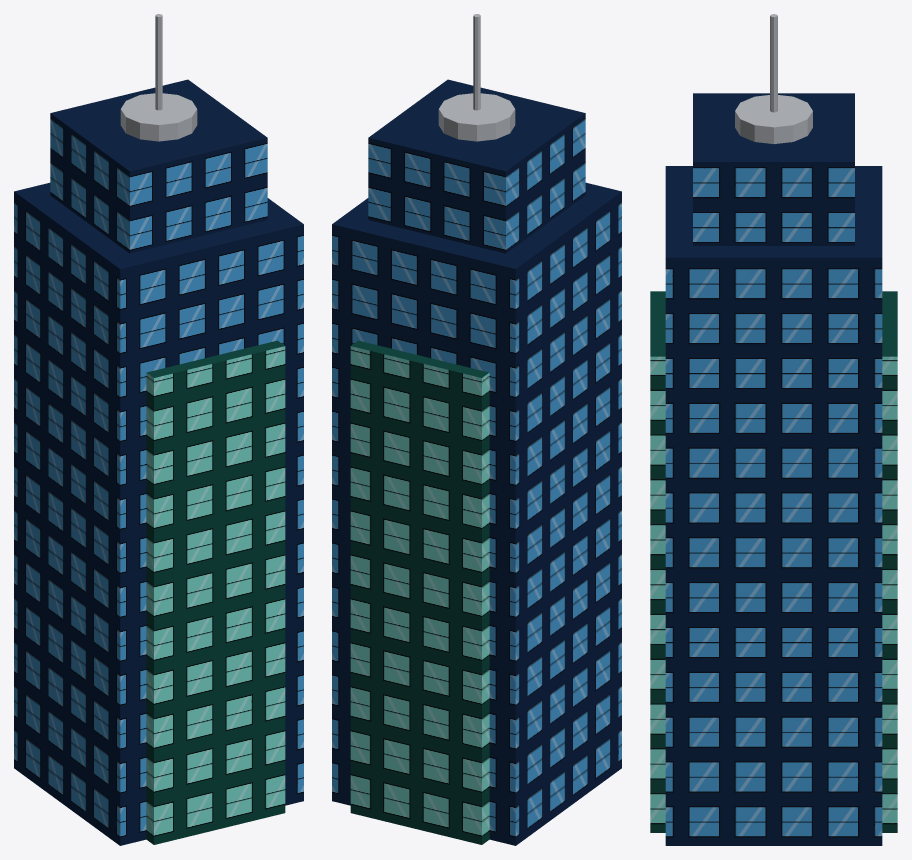
The model's file is pistas.glb.
3 views of the same model, side by side, from view 1: azimuth 30°, elevation 25°; view 2: azimuth 150°, elevation 25°; view 3: azimuth 270°, elevation 25° (orthographic). The views are drawn at different scales.
Visible parts, largest first — view 1: Edificio1, Edificio4; view 2: Edificio1, Edificio4; view 3: Edificio1, Edificio4.
Part boxes in pixels (x1=…): Edificio1: x1=14, y1=14, x2=303, y2=845; Edificio4: x1=146, y1=44, x2=285, y2=844; Edificio1: x1=332, y1=14, x2=621, y2=845; Edificio4: x1=350, y1=44, x2=489, y2=844; Edificio1: x1=665, y1=14, x2=882, y2=845; Edificio4: x1=650, y1=45, x2=897, y2=832.
Bounding box in the file's own units: 14 × 56.9 × 16.
Materials: 7 (5 with a texture image).
